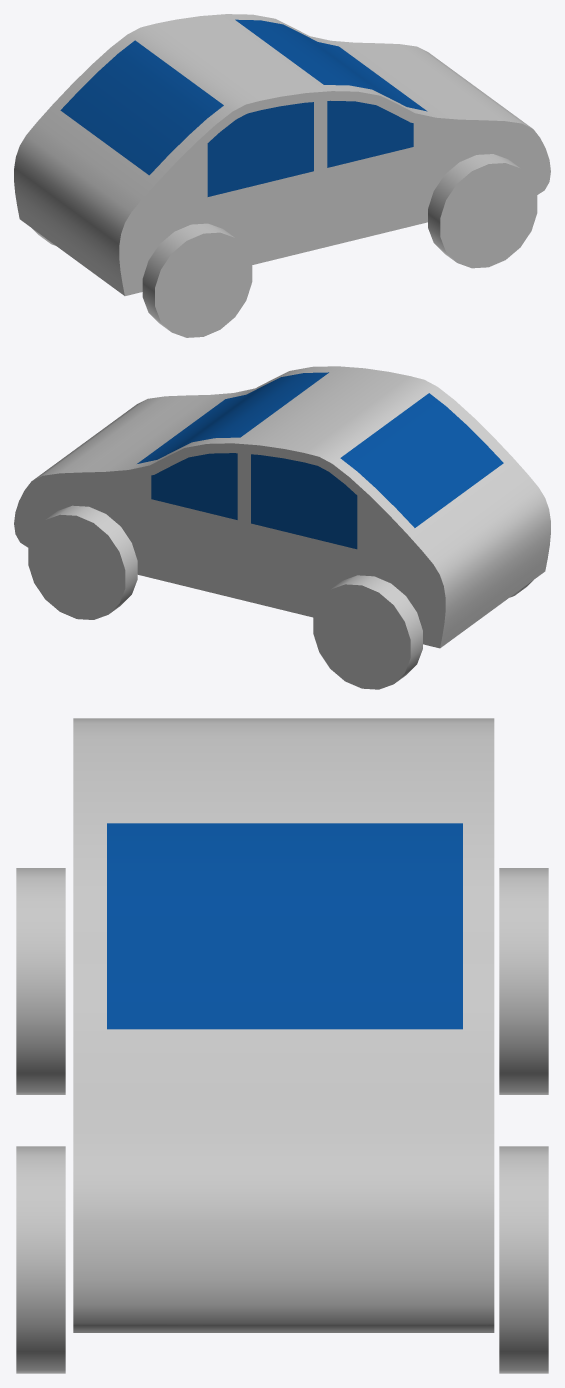
The model's file is Car 1.FBX.
The picture shows the model from 3 angles, top to bottom: view 1: azimuth 30°, elevation 25°; view 2: azimuth 150°, elevation 25°; view 3: azimuth 270°, elevation 25°; orthographic projection. The views are drawn at different scales.
Parts seen in each view (by area): view 1: Car 1; view 2: Car 1; view 3: Car 1.
Boxes of the visible parts, x1,y1,x2,y2 form: Car 1: [14, 14, 550, 337]; Car 1: [14, 366, 550, 689]; Car 1: [16, 718, 548, 1373].
Size of the model in its own units: 23.16 by 10.68 by 12.37.
